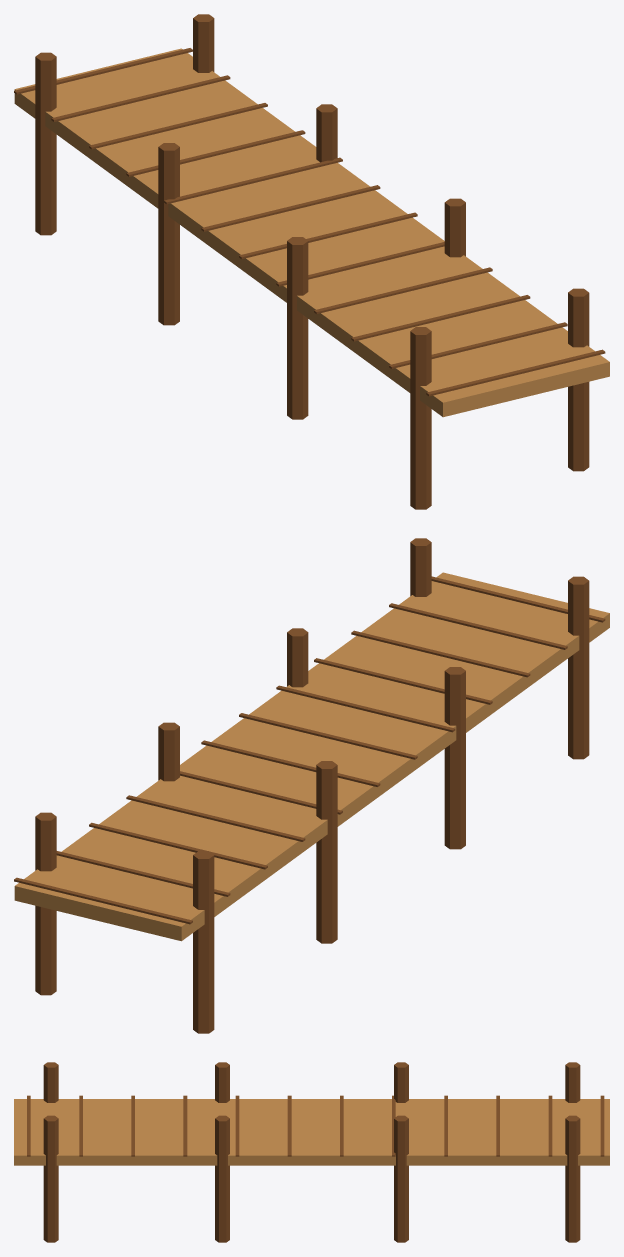
File: wooden_pier.glb
3 renders of one model, top to bottom at view 1: azimuth 30°, elevation 25°; view 2: azimuth 150°, elevation 25°; view 3: azimuth 270°, elevation 25°, orthographic. The views are drawn at different scales.
Parts seen in each view (by area): view 1: wooden_pier; view 2: wooden_pier; view 3: wooden_pier.
Boxes of the visible parts, x1,y1,x2,y2 form: wooden_pier: (14,14,609,509); wooden_pier: (14,538,609,1033); wooden_pier: (14,1062,609,1242).
Size of the model in its own units: 1.9 by 1.8 by 8.
